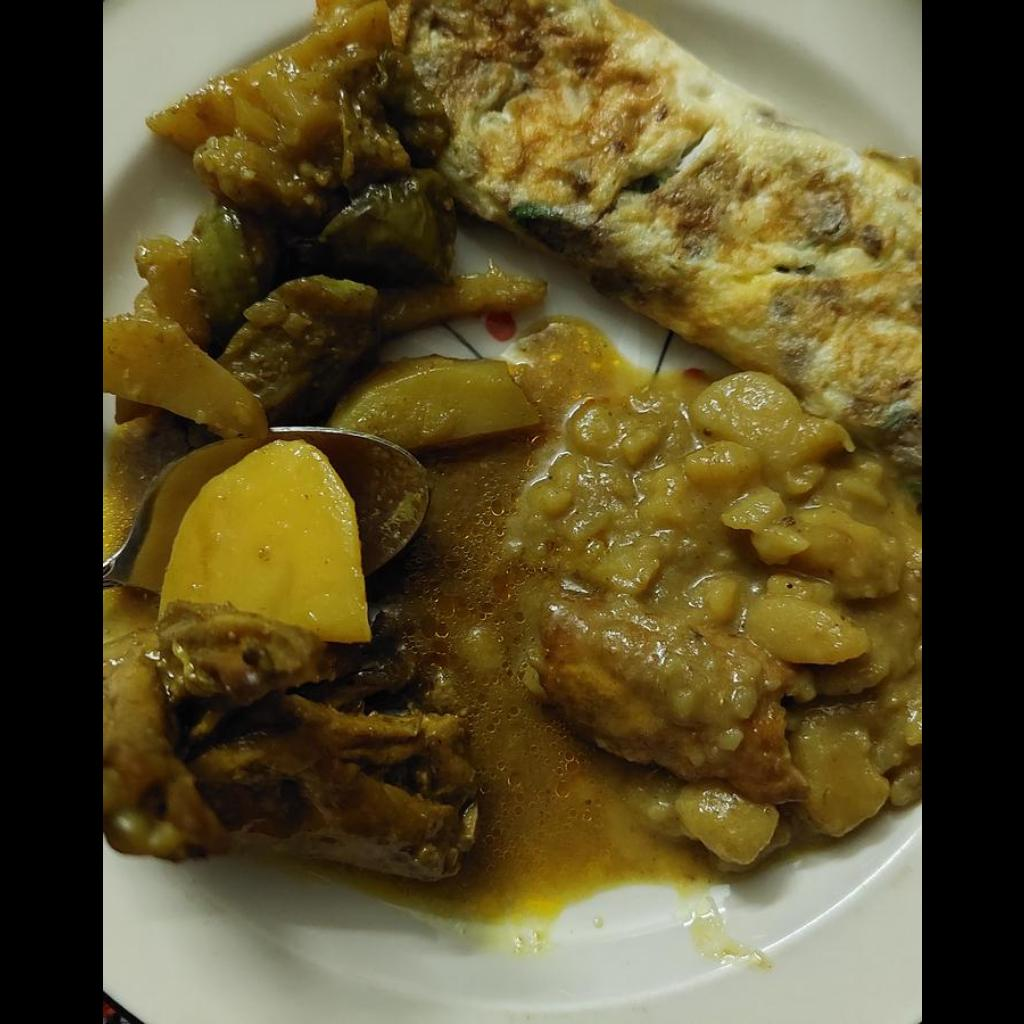chicken: (102, 603, 471, 879), (528, 579, 797, 798)
daal: (502, 385, 920, 838)
egg-poached: (415, 2, 920, 414)
potato: (161, 440, 369, 642)
vegetable: (104, 4, 541, 452)
